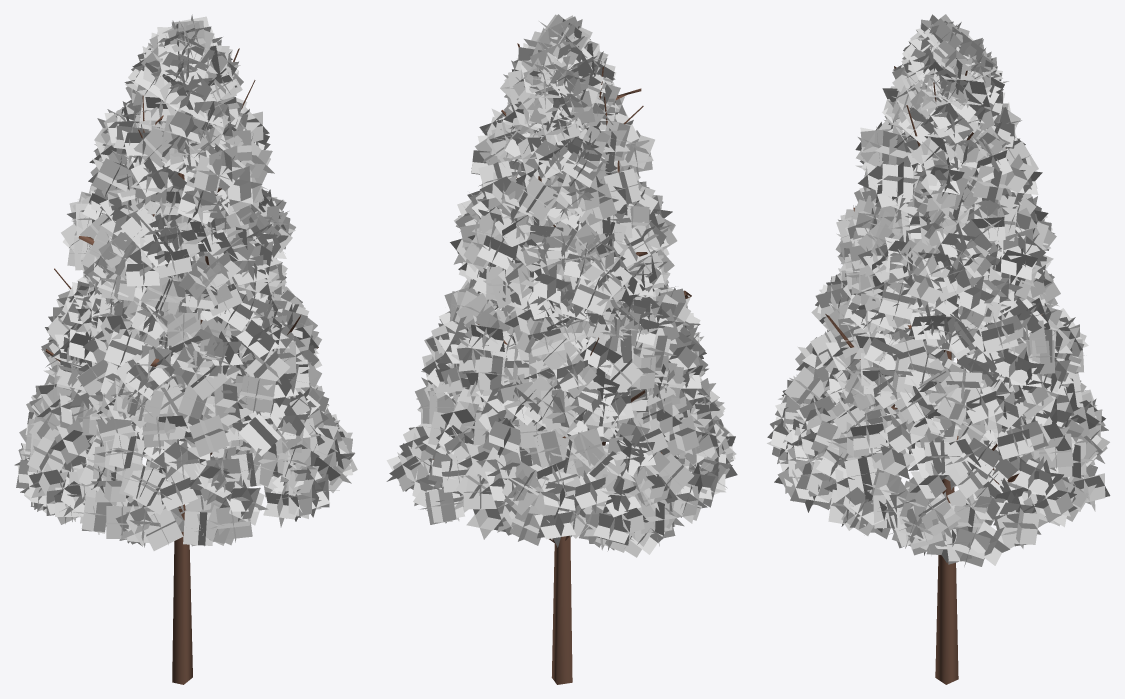
File: ColdTree 1.fbx
3 renders of one model, left to right at view 1: azimuth 30°, elevation 25°; view 2: azimuth 150°, elevation 25°; view 3: azimuth 270°, elevation 25°, orthographic.
Parts seen in each view (by area): view 1: leaf.029, tree.001; view 2: leaf.029, tree.001; view 3: leaf.029, tree.001.
Part boxes in pixels (x1=…): leaf.029: x1=14, y1=14, x2=357, y2=550; tree.001: x1=45, y1=48, x2=318, y2=684; leaf.029: x1=386, y1=14, x2=737, y2=557; tree.001: x1=433, y1=43, x2=691, y2=684; leaf.029: x1=767, y1=14, x2=1110, y2=566; tree.001: x1=825, y1=66, x2=1042, y2=684.
Size of the model in its own units: 120 by 254 by 119.
